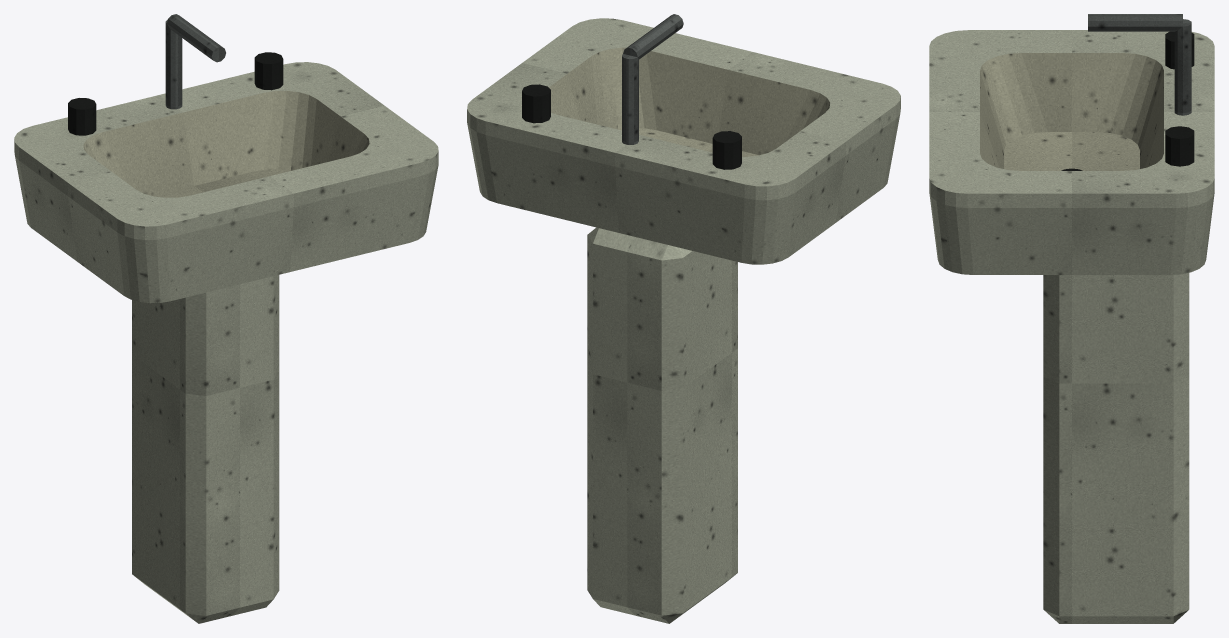
The model's file is basin_pedestal.glb.
3 views of the same model, side by side, from view 1: azimuth 30°, elevation 25°; view 2: azimuth 150°, elevation 25°; view 3: azimuth 270°, elevation 25° (orthographic). The views are drawn at different scales.
Visible parts, largest first — view 1: PROP_basin_pedestal; view 2: PROP_basin_pedestal; view 3: PROP_basin_pedestal.
Part boxes in pixels (x1,y1,x2,y2): PROP_basin_pedestal: [14, 14, 438, 623]; PROP_basin_pedestal: [467, 14, 900, 623]; PROP_basin_pedestal: [929, 14, 1214, 623].
Bounding box in the file's own units: 0.61 × 1.03 × 0.45.
Materials: 4 (4 with a texture image).
